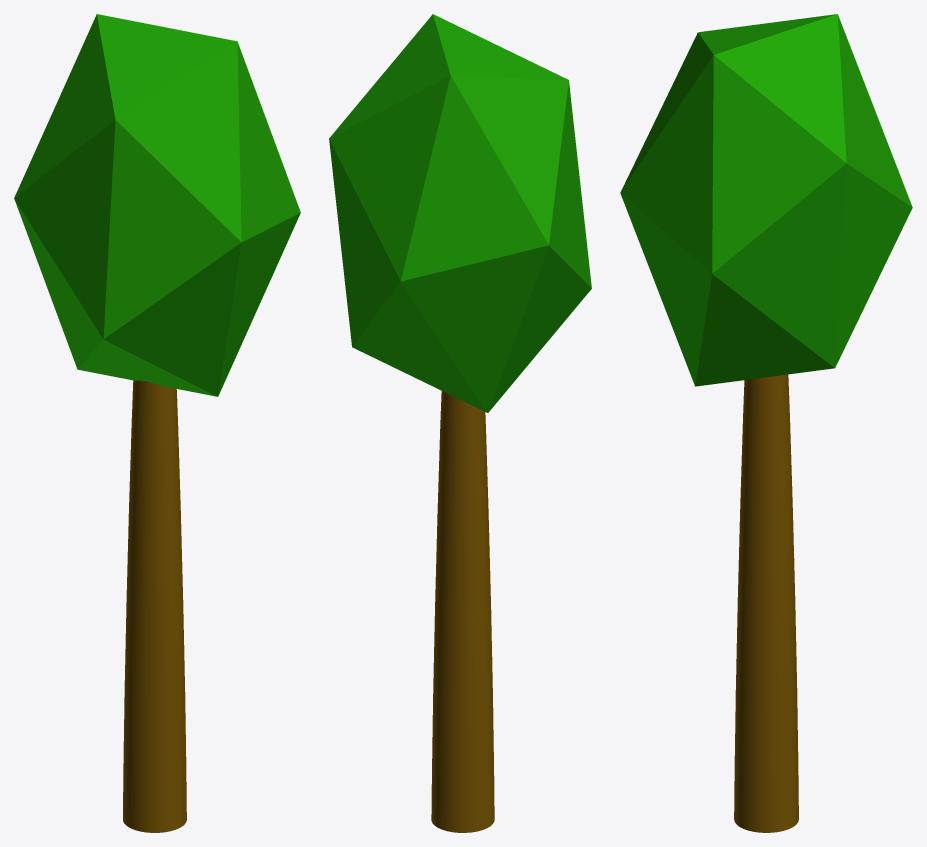
The model's file is sproutTree.glb.
The picture shows the model from 3 angles, left to right: view 1: azimuth 30°, elevation 25°; view 2: azimuth 150°, elevation 25°; view 3: azimuth 270°, elevation 25°; orthographic projection. The views are drawn at different scales.
Visible parts, largest first — view 1: Icosphere; view 2: Icosphere; view 3: Icosphere.
Part boxes in pixels (x1=…): Icosphere: x1=14, y1=14, x2=300, y2=832; Icosphere: x1=329, y1=14, x2=591, y2=832; Icosphere: x1=620, y1=14, x2=912, y2=832.
Bounding box in the file's own units: 5.7 × 18.35 × 6.13.
